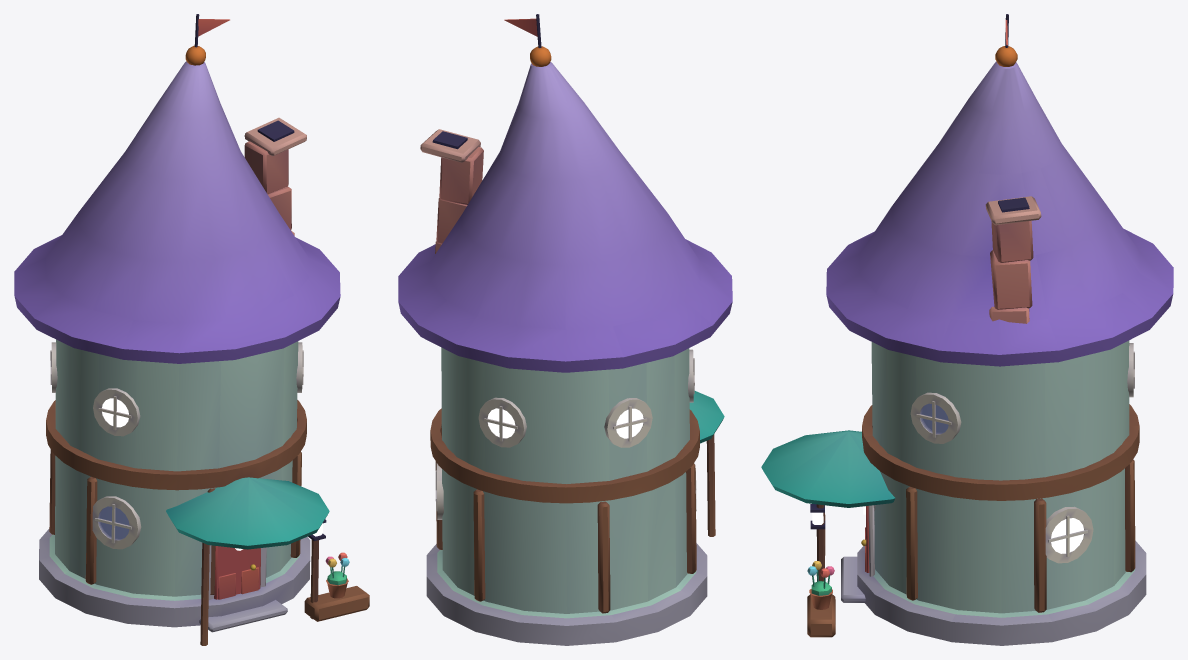
The model's file is common_town_cottage_tower.glb.
3 renders of one model, left to right at view 1: azimuth 30°, elevation 25°; view 2: azimuth 150°, elevation 25°; view 3: azimuth 270°, elevation 25°, orthographic. The views are drawn at different scales.
Visible parts, largest first — view 1: common_town_cottage_tower; view 2: common_town_cottage_tower; view 3: common_town_cottage_tower.
Boxes of the visible parts, x1=… form: common_town_cottage_tower: x1=14, y1=14, x2=369, y2=645; common_town_cottage_tower: x1=398, y1=14, x2=732, y2=645; common_town_cottage_tower: x1=761, y1=14, x2=1173, y2=645.
Bounding box in the file's own units: 6.22 × 11.4 × 7.32.
